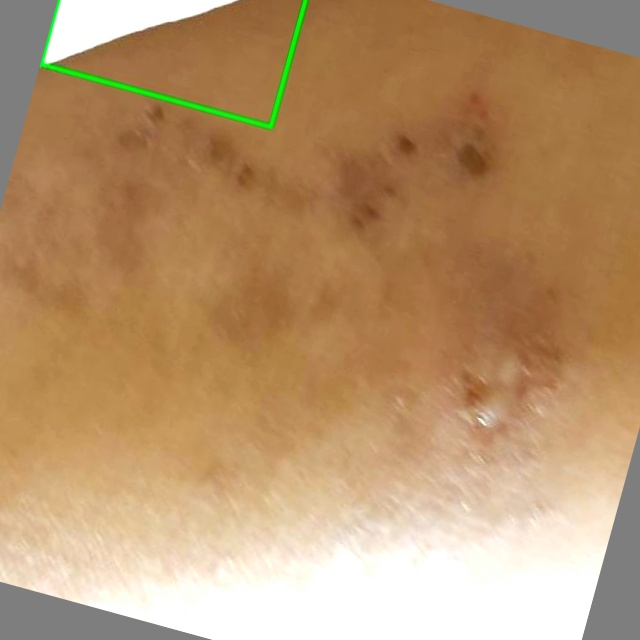Scabies: (40, 0, 305, 127)
